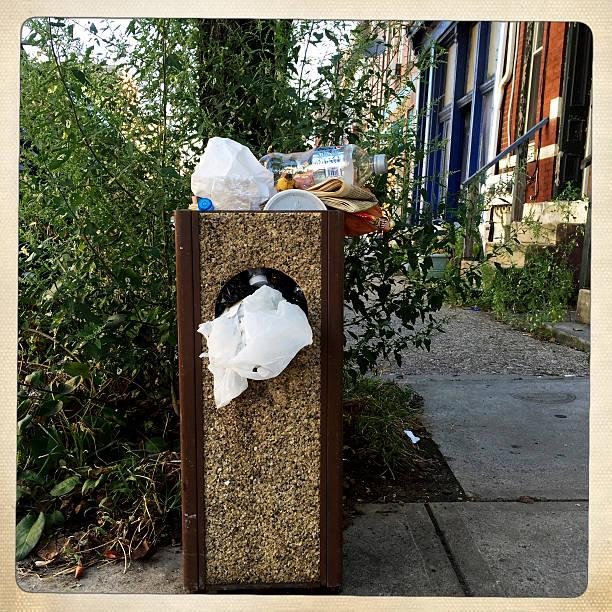trash: (199, 266, 322, 398), (231, 114, 411, 192), (181, 115, 273, 229), (279, 163, 405, 244), (264, 182, 334, 232)
trash_can_overflow: (146, 61, 423, 601)
